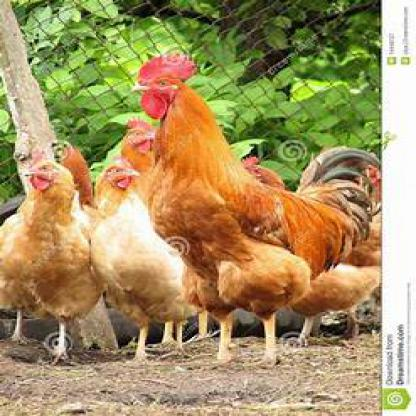chicken: (130, 51, 379, 362), (0, 152, 90, 362), (93, 158, 185, 362), (108, 113, 167, 164)
